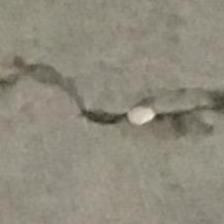Crack: (0, 54, 224, 154)
